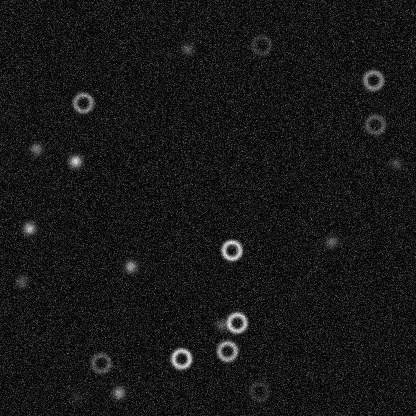Ring: (247, 379, 271, 403), (219, 238, 243, 262), (361, 68, 385, 92), (249, 32, 273, 56), (169, 346, 193, 370), (215, 338, 239, 362), (224, 310, 248, 334), (88, 350, 112, 374), (362, 112, 386, 136), (70, 90, 94, 114)
Spot: (28, 140, 44, 156), (68, 389, 84, 405), (67, 153, 83, 169), (110, 384, 126, 400), (21, 220, 37, 236), (122, 258, 138, 274), (179, 40, 195, 56), (387, 154, 403, 170), (13, 273, 29, 289), (323, 233, 339, 249), (213, 316, 229, 332)
